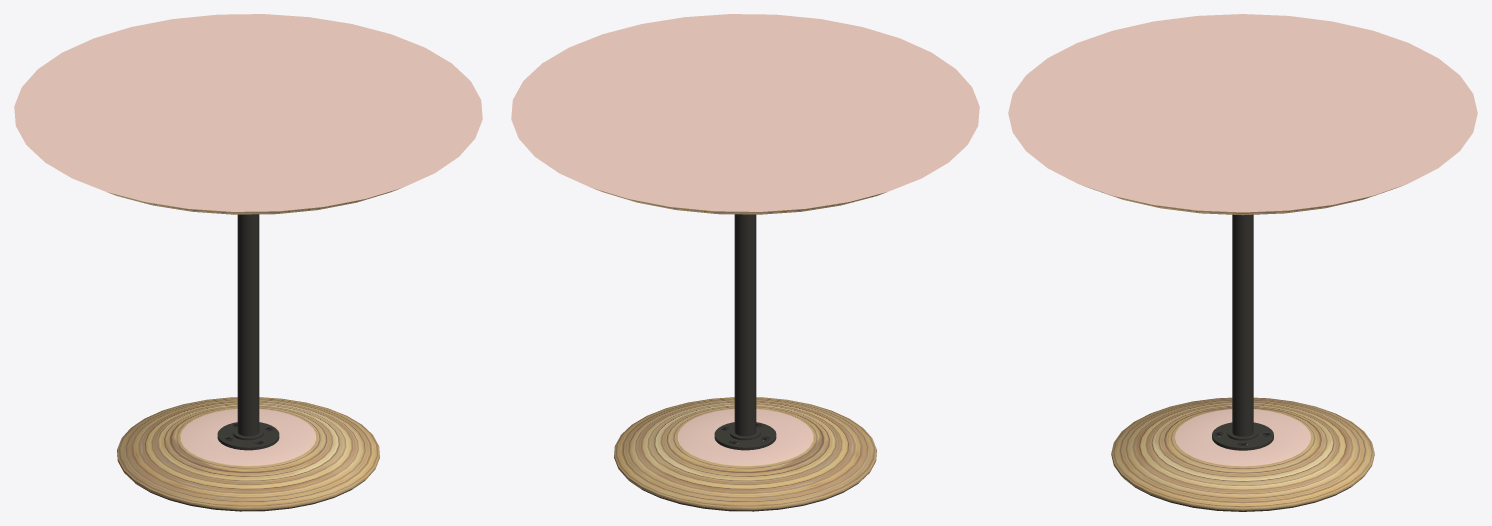
The model's file is TulipTable - Pink.glb.
3 renders of one model, left to right at view 1: azimuth 30°, elevation 25°; view 2: azimuth 150°, elevation 25°; view 3: azimuth 270°, elevation 25°, orthographic.
Parts seen in each view (by area): view 1: TulipTablePink; view 2: TulipTablePink; view 3: TulipTablePink.
Boxes of the visible parts, <box> form: TulipTablePink: <box>14,14,482,511</box>; TulipTablePink: <box>511,14,979,511</box>; TulipTablePink: <box>1008,14,1477,511</box>.
Size of the model in its own units: 0.8943 by 0.7238 by 0.8943.
2 materials, 2 textured.
